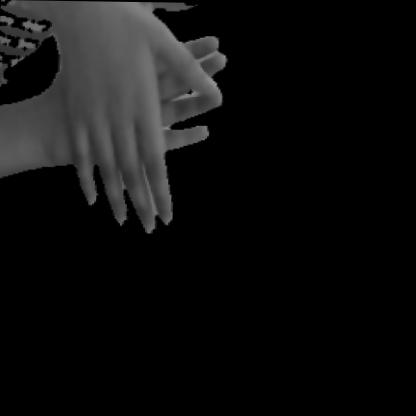clap: (5, 3, 239, 241)
